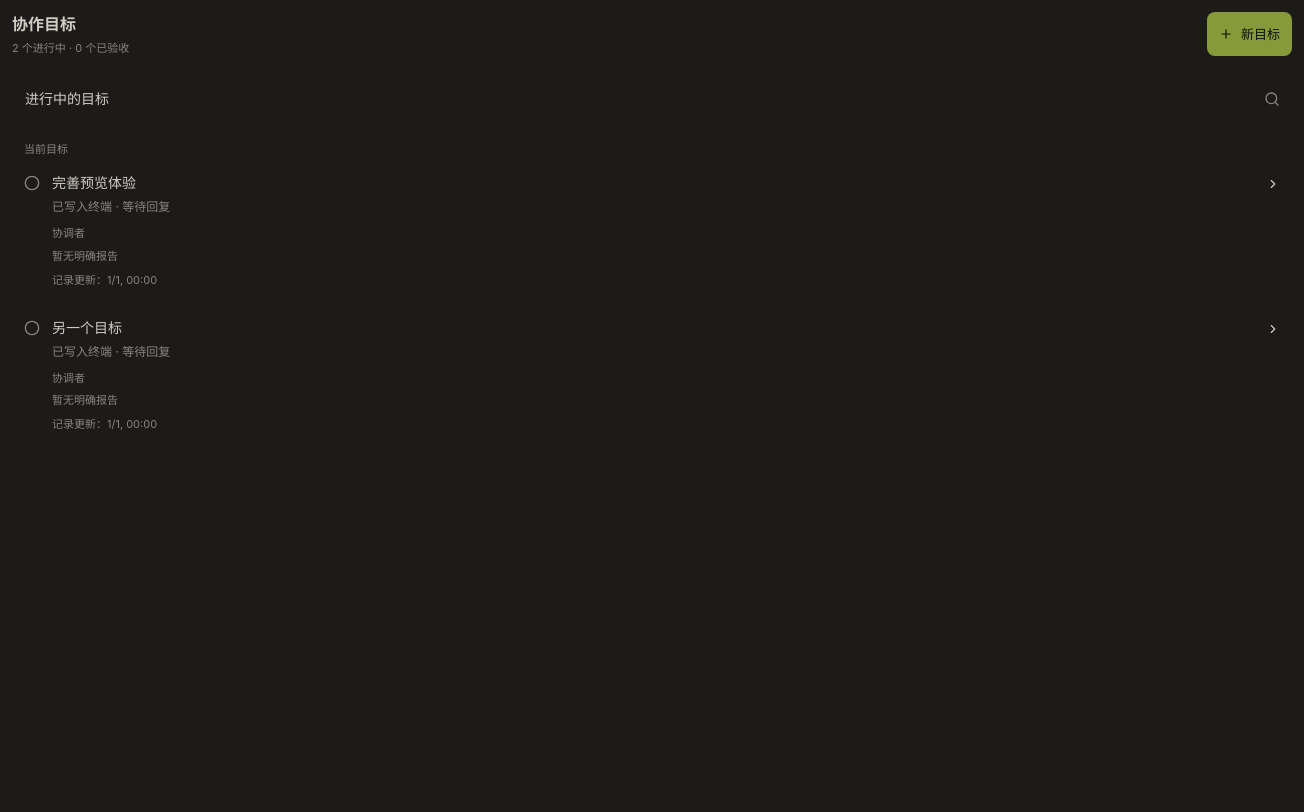
Scenario: collaboration goal journeys › does not replace a newer selected task with a late detail response
What coordinates should you click on to do the following:
click the button "完善预览体验 已写入终端 · 等待回复 协调者 暂无明确报告 记录更新：1/1, 00:00"
I would click on:
 (652, 231)
Its box is x1=12 y1=161 x2=1292 y2=302.
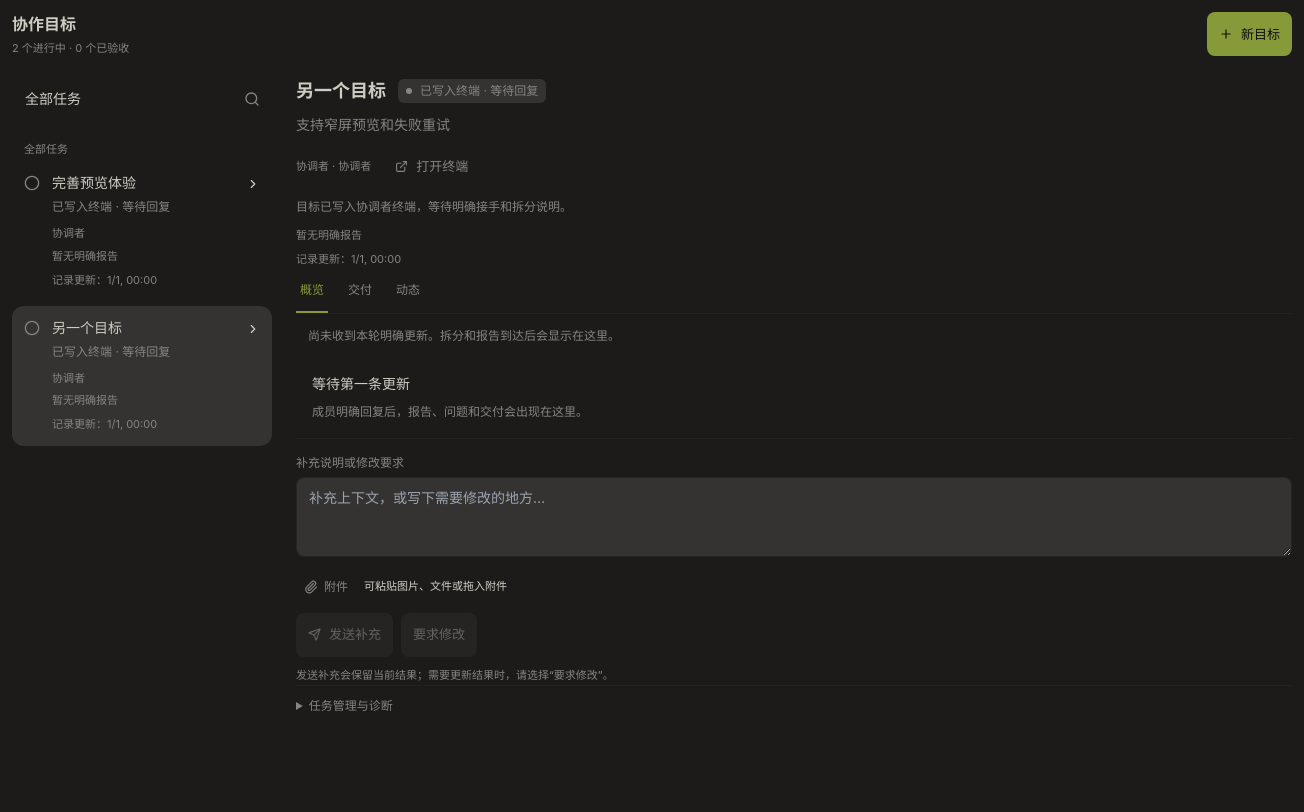
Check: the heading "另一个目标" is shown, box x1=296 y1=76 x2=386 y2=104
